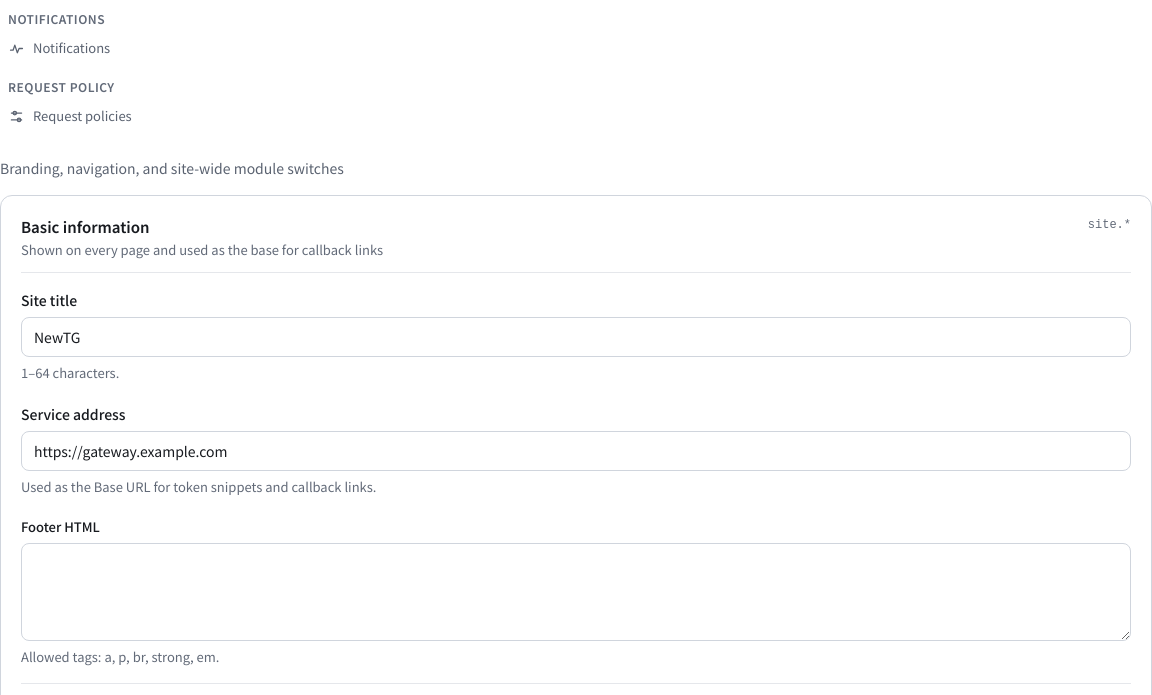
SettingsShell contract › marks the section dirty and saves only that section with the optimistic token
(page scrolled)
Replace the text in the field labelled "Site title" with "Token Gateway". click: (576, 337)
box: [21,317,1131,357]
(page scrolled)
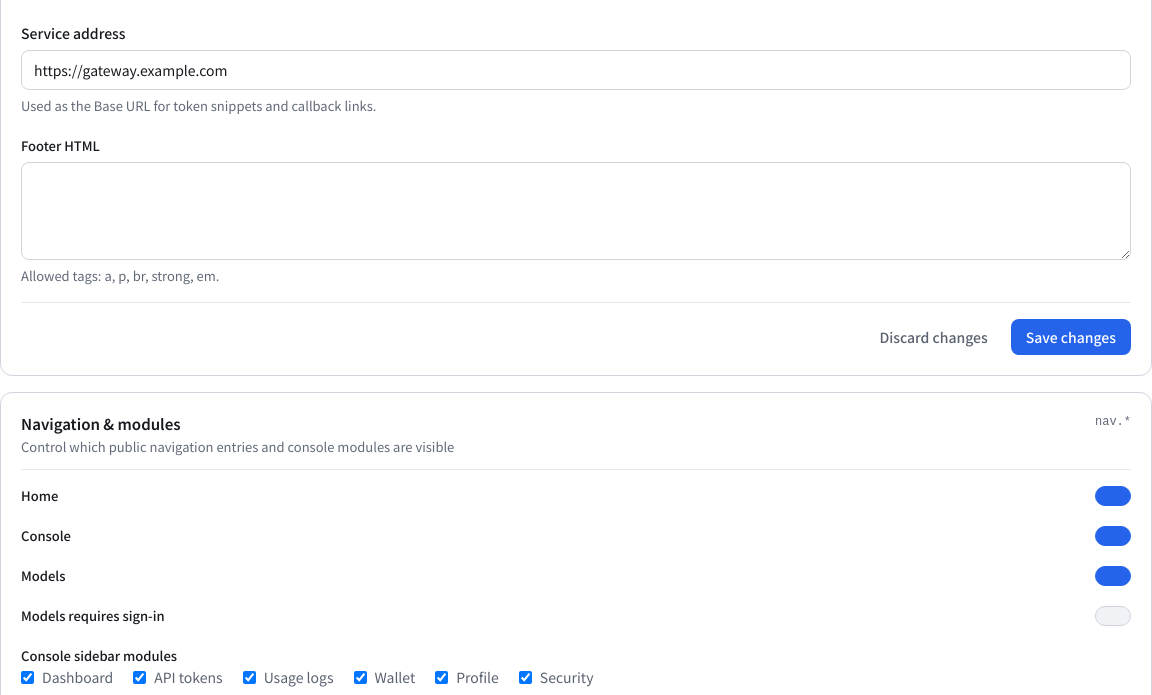
expect the button "Save changes" is enabled: met
Click the button "Save changes". click: (1071, 337)
box: [1011,319,1131,355]
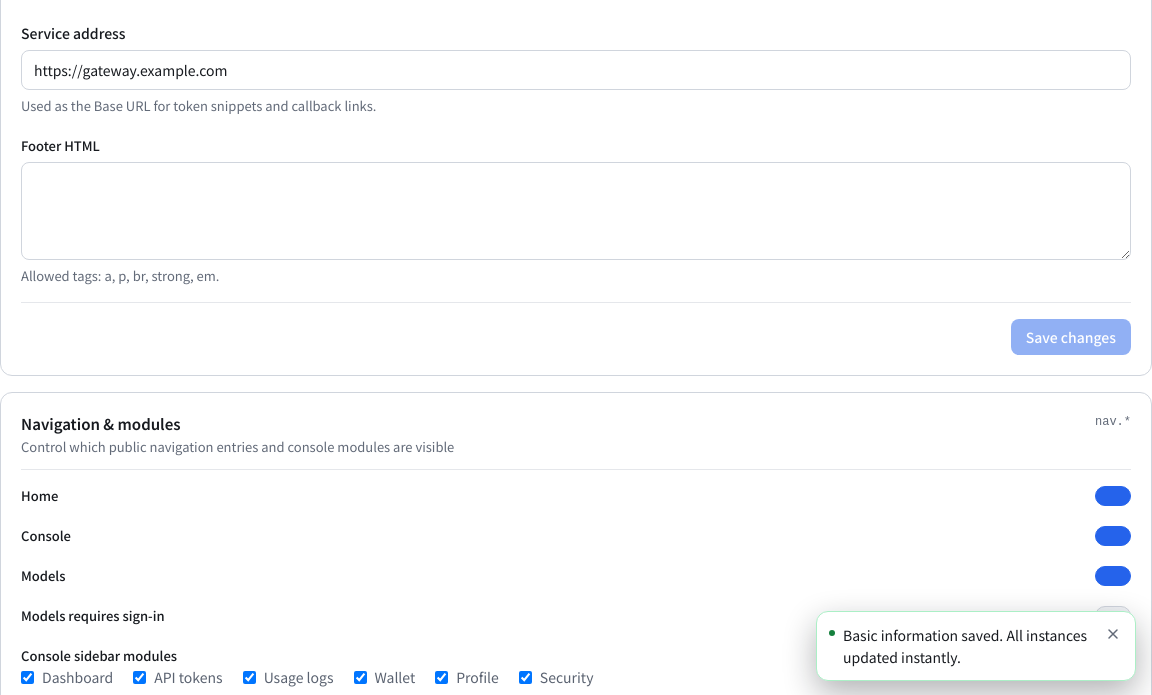
expect the text "Basic information saved. All instances updated instantly." is shown: met, box [843,624,1095,668]
